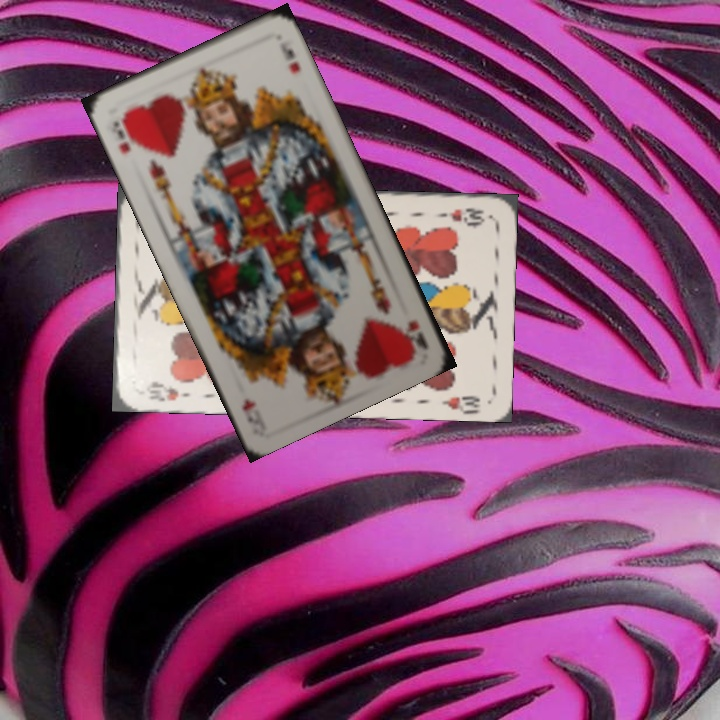H10: (142, 377, 193, 404), (432, 204, 487, 227)
HK: (109, 113, 141, 157), (401, 316, 431, 355)
